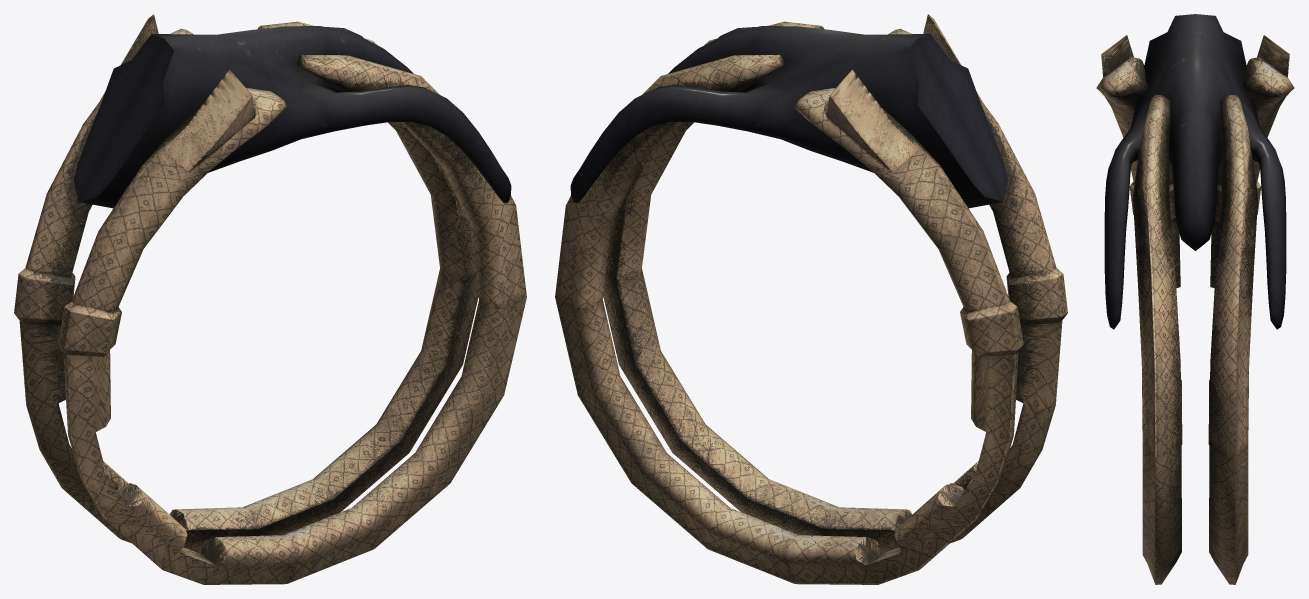
Rendered from bronze_ring.glb.
The picture shows the model from 3 angles, left to right: view 1: azimuth 30°, elevation 25°; view 2: azimuth 150°, elevation 25°; view 3: azimuth 270°, elevation 25°; orthographic projection. The views are drawn at different scales.
Visible parts, largest first — view 1: Bronze; view 2: Bronze; view 3: Bronze.
Boxes of the visible parts, x1,y1,x2,y2 form: Bronze: (14,14,526,584); Bronze: (555,14,1067,584); Bronze: (1096,14,1294,584).
Size of the model in its own units: 0.0219 by 0.0249 by 0.00895.
1 material, 1 textured.
